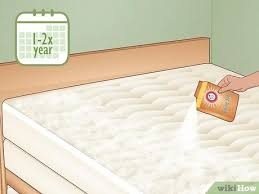bed-matress: (1, 63, 259, 194)
